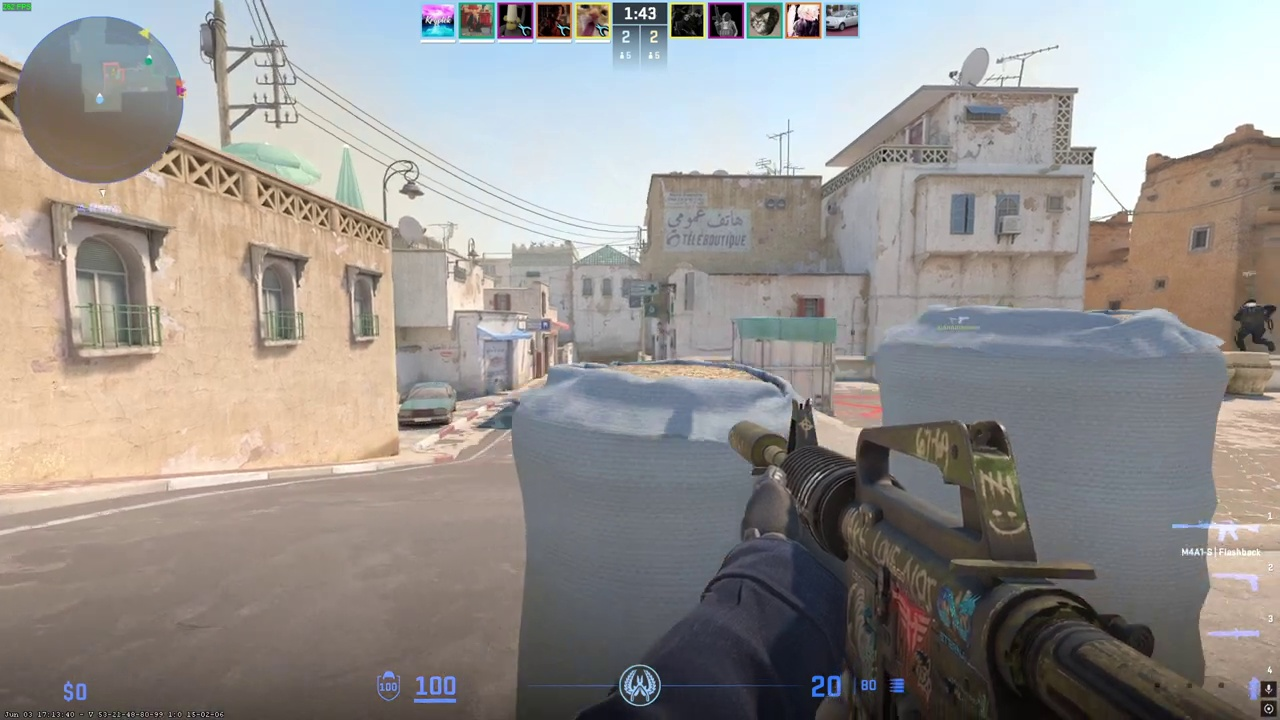CT: (1233, 298, 1272, 351)
